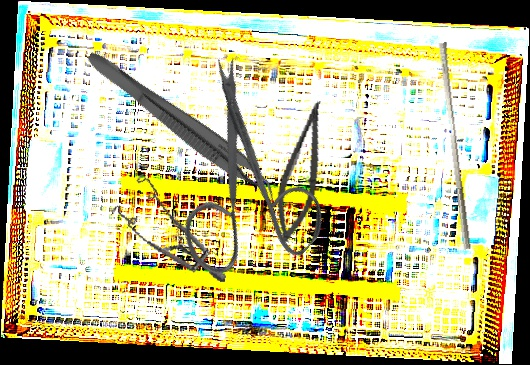Iris Scissors: (107, 51, 370, 311)
Micro Scissor: (269, 96, 332, 246)
Pusher: (430, 42, 480, 250)
Speculum: (102, 169, 245, 283)
Tissue Forceps: (77, 47, 286, 208)
